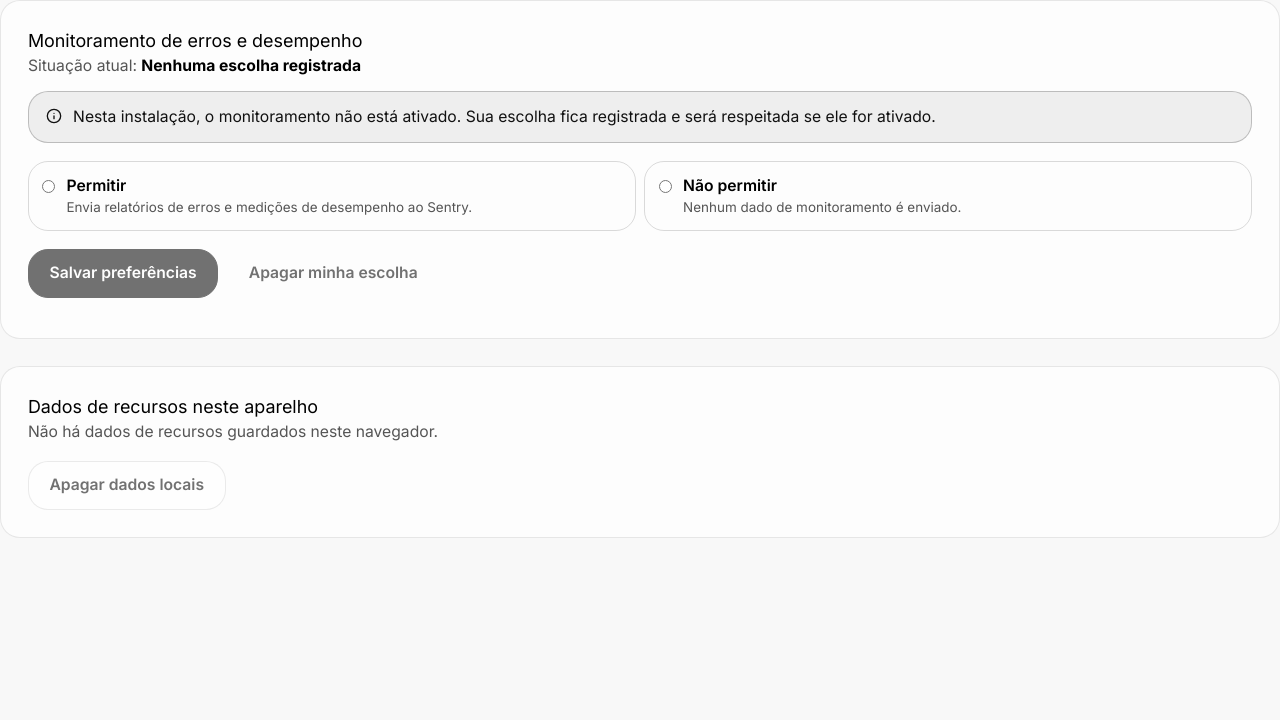
Test: preferências de cookie (controles reais) › salvar permite, grava a escolha e o status muda; recusar grava "denied"
expect the text "Nenhuma escolha registrada" is shown: met, box [141, 56, 361, 75]
expect the button "Salvar preferências" is disabled: met, box [28, 249, 218, 298]
Click the radio button labelled "Permitir". click: {"x": 49, "y": 186}
box: [42, 180, 55, 193]
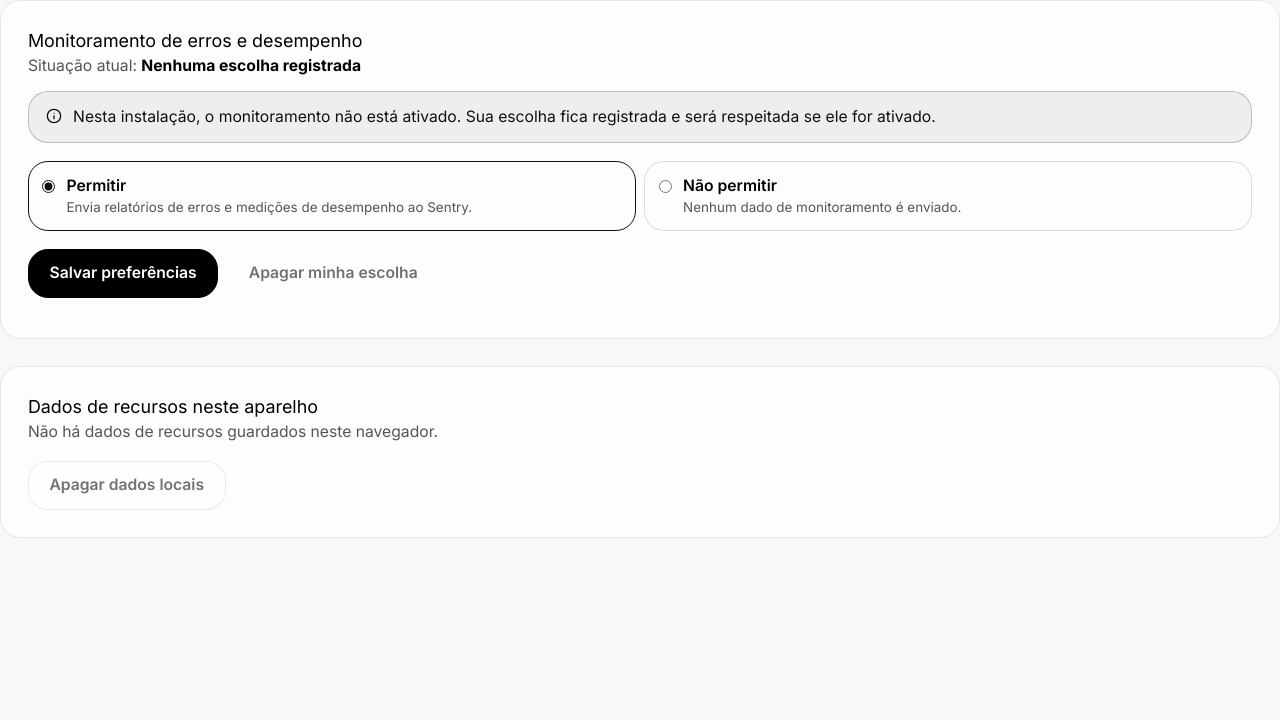
Click the button "Salvar preferências". click: {"x": 123, "y": 273}
box: [28, 249, 218, 298]
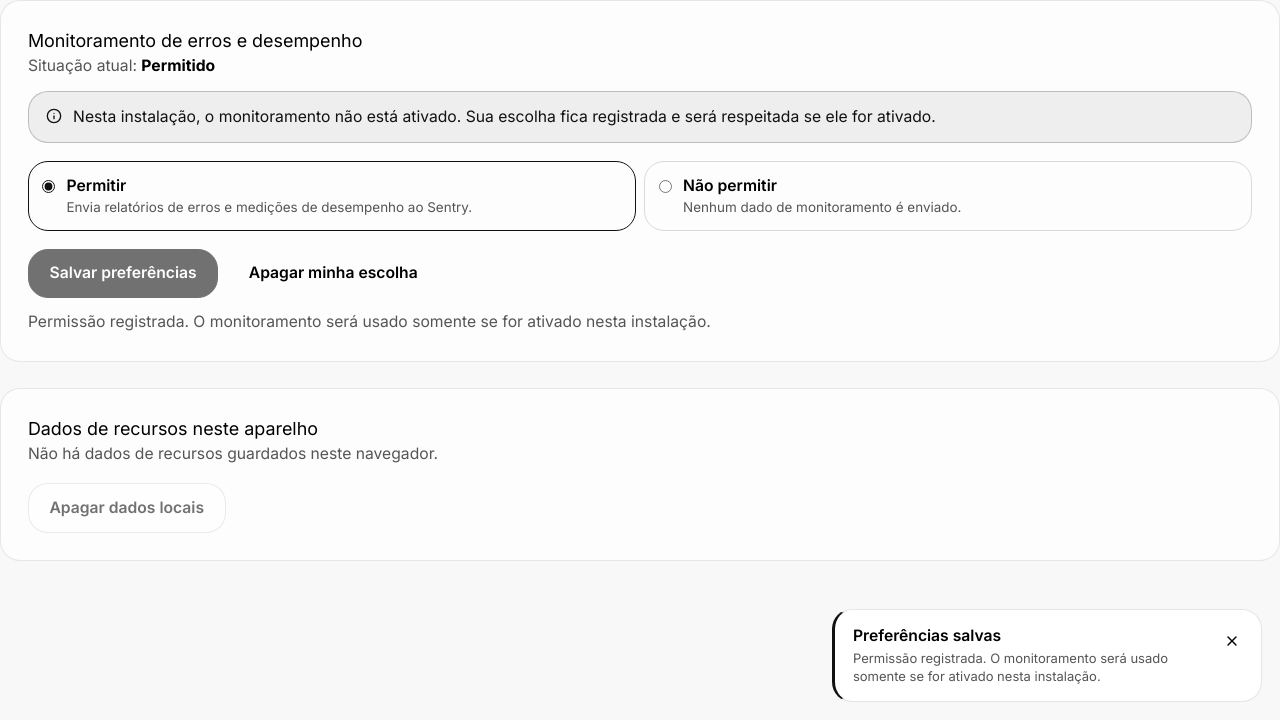
expect the text "Permitido" is shown: met, box [141, 56, 215, 75]
Click the radio button labelled "Não permitir Nenhum dado de monitoramento é enviado.". click: {"x": 665, "y": 186}
box: [659, 180, 672, 193]
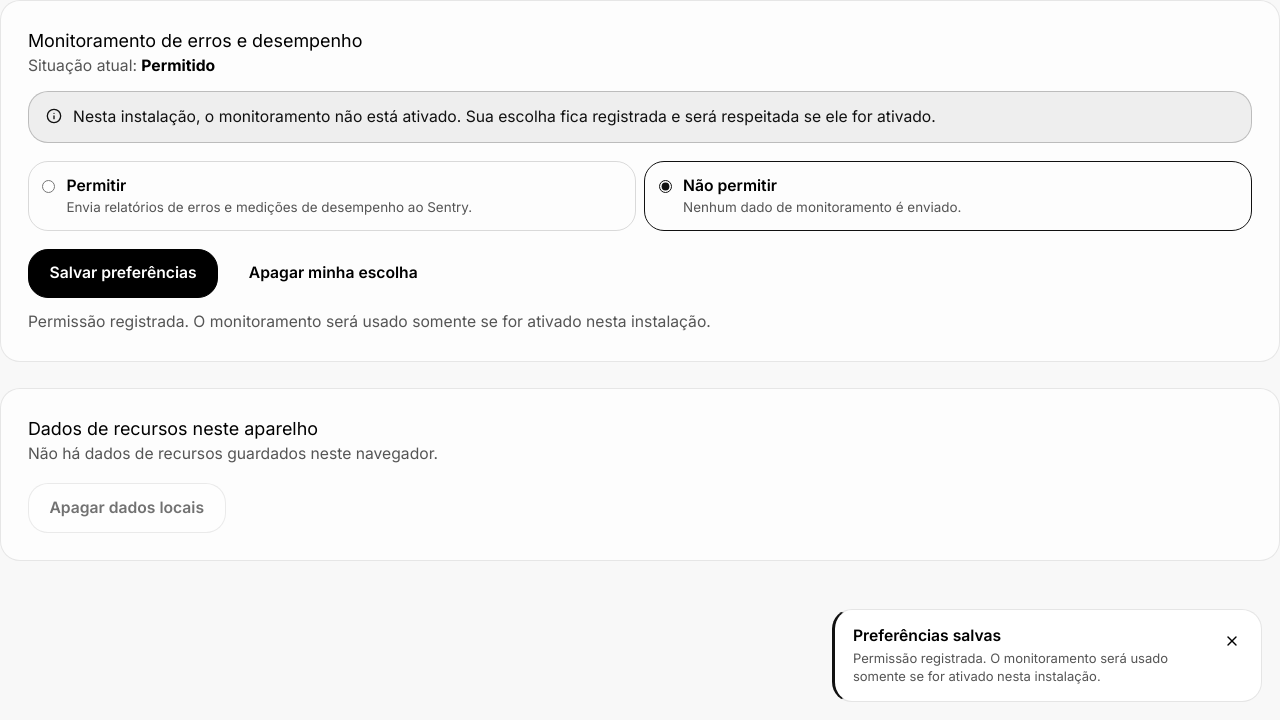
Click the button "Salvar preferências". click: {"x": 123, "y": 273}
box: [28, 249, 218, 298]
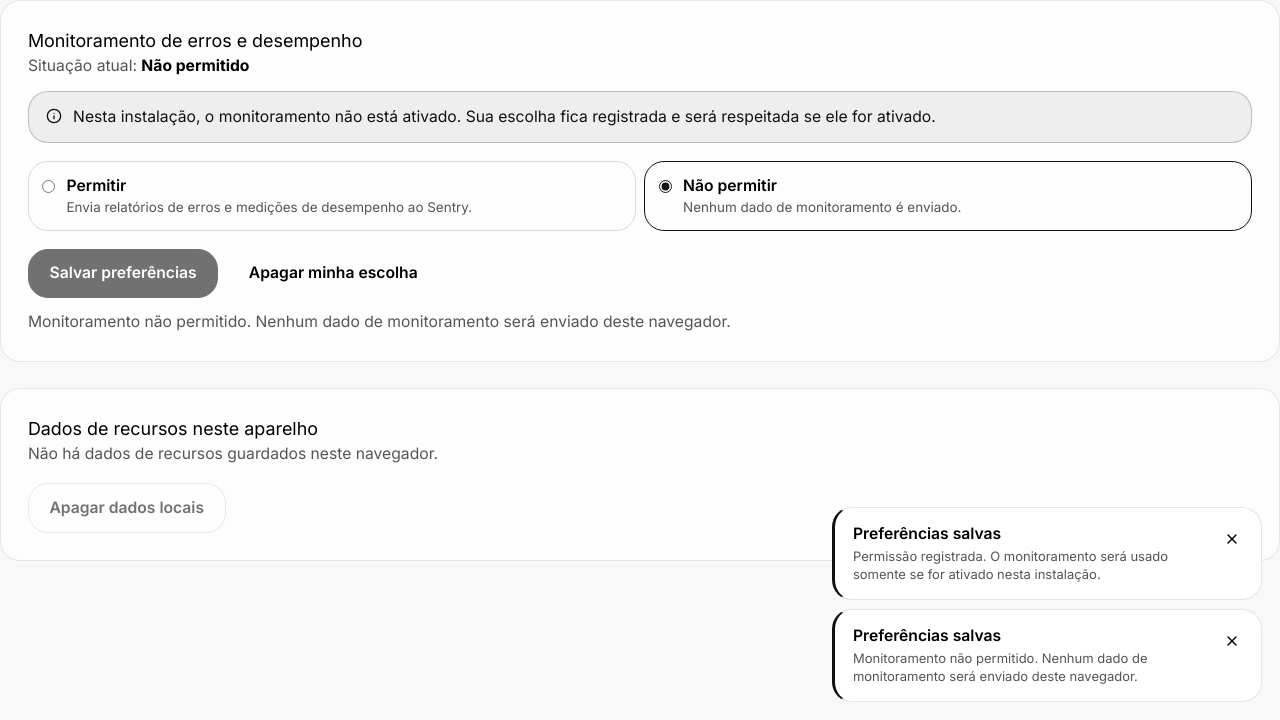
expect the text "Nenhum dado de monitoramento será enviado" is shown: met, box [28, 312, 731, 331]
